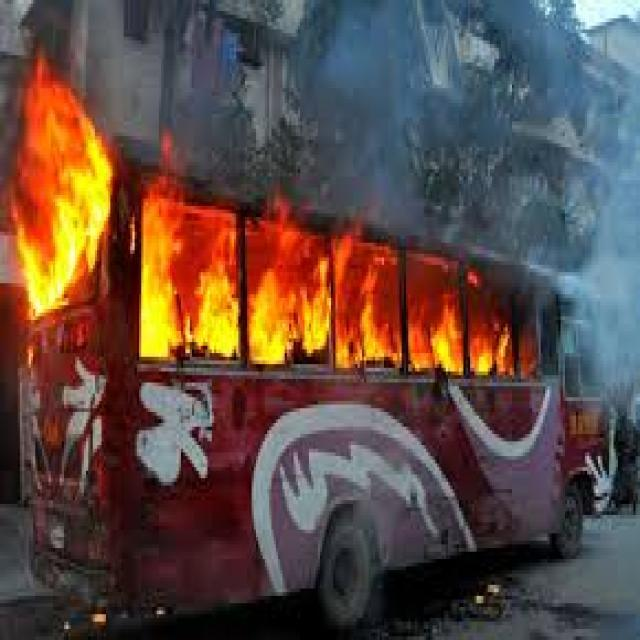Fire: (16, 72, 105, 307), (138, 194, 246, 364), (340, 243, 463, 377), (251, 220, 331, 362), (471, 304, 514, 371)
Smoke: (314, 0, 640, 186), (565, 194, 640, 424)
